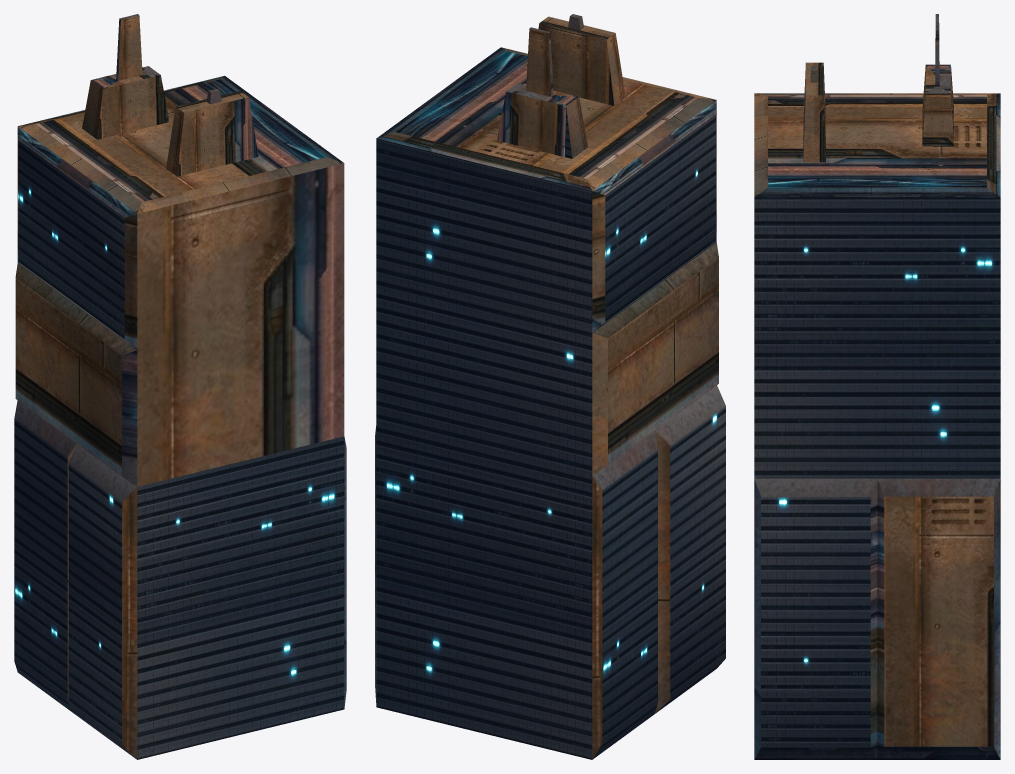
File: 2026-commercial-building-3.glb
The picture shows the model from 3 angles, left to right: view 1: azimuth 30°, elevation 25°; view 2: azimuth 150°, elevation 25°; view 3: azimuth 270°, elevation 25°; orthographic projection. The views are drawn at different scales.
Visible parts, largest first — view 1: 2026-commercial-building-3; view 2: 2026-commercial-building-3; view 3: 2026-commercial-building-3.
Boxes of the visible parts, left/top/right/bottom form: 2026-commercial-building-3: left=14, top=14, right=346, bottom=759; 2026-commercial-building-3: left=375, top=14, right=725, bottom=759; 2026-commercial-building-3: left=754, top=14, right=1000, bottom=759.
Size of the model in its own units: 55.39 by 156 by 51.08.
Materials: 1 (1 with a texture image).
